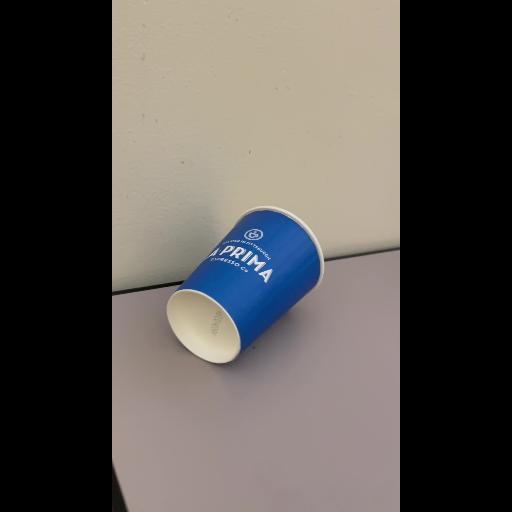lp_paper_cup: (158, 204, 324, 366)
